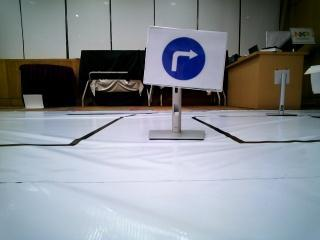right: (149, 27, 220, 87)
